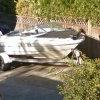Boat: (2, 20, 93, 73)
